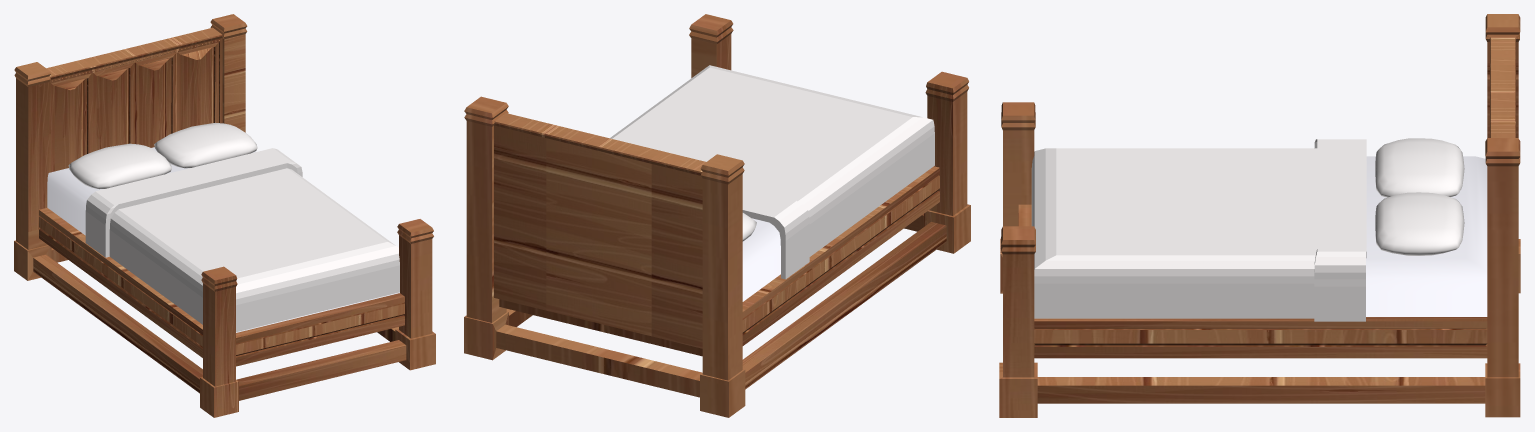
File: double bed verse 1.fbx
3 renders of one model, left to right at view 1: azimuth 30°, elevation 25°; view 2: azimuth 150°, elevation 25°; view 3: azimuth 270°, elevation 25°, orthographic. The views are drawn at different scales.
Parts seen in each view (by area): view 1: Plane, Plane.001, Cube, Cube.001, Plane.002; view 2: Plane, Plane.001, Plane.002; view 3: Plane.001, Plane, Plane.002, Cube.001, Cube.
Boxes of the visible parts, <box> form: Plane: <box>14,14,435,417</box>; Plane.001: <box>85,148,399,332</box>; Cube: <box>68,143,171,189</box>; Cube.001: <box>154,122,257,168</box>; Plane.002: <box>47,147,399,332</box>; Plane: <box>464,14,970,417</box>; Plane.001: <box>610,65,934,279</box>; Plane.002: <box>742,218,780,301</box>; Plane.001: <box>1031,139,1366,321</box>; Plane: <box>999,14,1520,417</box>; Plane.002: <box>1366,156,1487,316</box>; Cube.001: <box>1375,192,1464,255</box>; Cube: <box>1375,138,1464,197</box>.
Size of the model in its own units: 2455 by 2163 by 3856.
3 materials, 1 textured.
